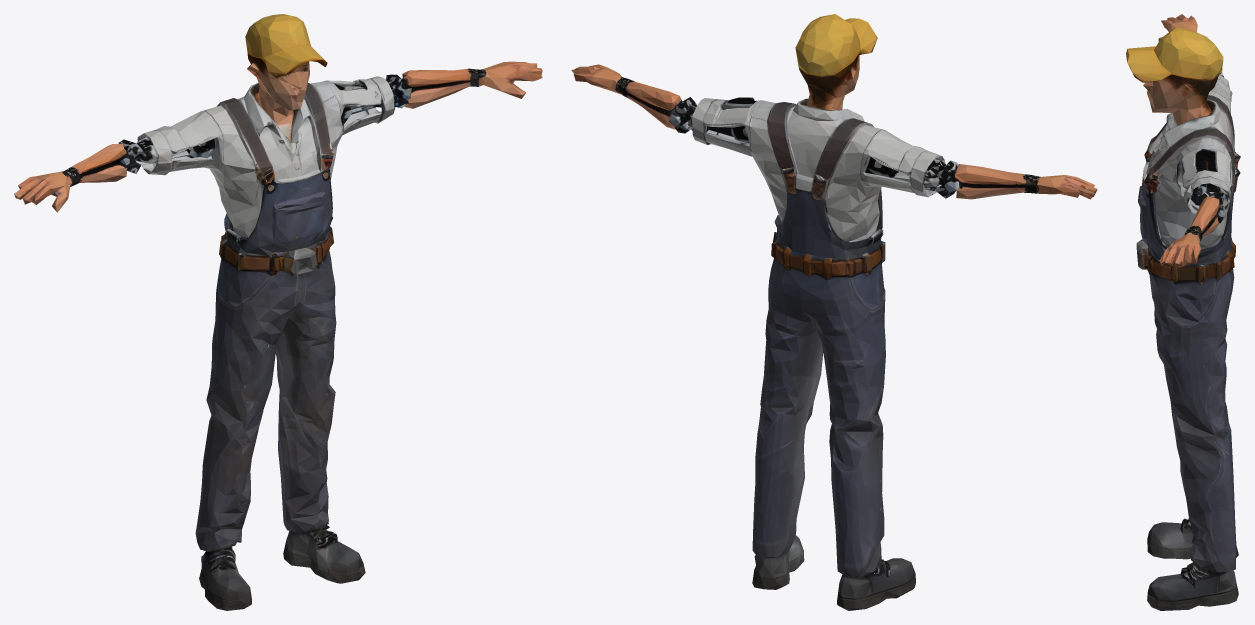
Rendered from tripo_convert_2efab43c-cb87-45d3-8b67-abcb0a43920b.obj.
3 views of the same model, side by side, from view 1: azimuth 30°, elevation 25°; view 2: azimuth 150°, elevation 25°; view 3: azimuth 270°, elevation 25° (orthographic). The views are drawn at different scales.
Visible parts, largest first — view 1: tripo_node_2efab43c-cb87-45d3-8b67-abcb0a43920b; view 2: tripo_node_2efab43c-cb87-45d3-8b67-abcb0a43920b; view 3: tripo_node_2efab43c-cb87-45d3-8b67-abcb0a43920b.
Boxes of the visible parts, x1,y1,x2,y2 form: tripo_node_2efab43c-cb87-45d3-8b67-abcb0a43920b: (14,14,542,610); tripo_node_2efab43c-cb87-45d3-8b67-abcb0a43920b: (571,14,1097,610); tripo_node_2efab43c-cb87-45d3-8b67-abcb0a43920b: (1126,14,1240,610).
Bounding box in the file's own units: 0.9713 × 0.9996 × 0.1904.
Materials: 1 (1 with a texture image).
